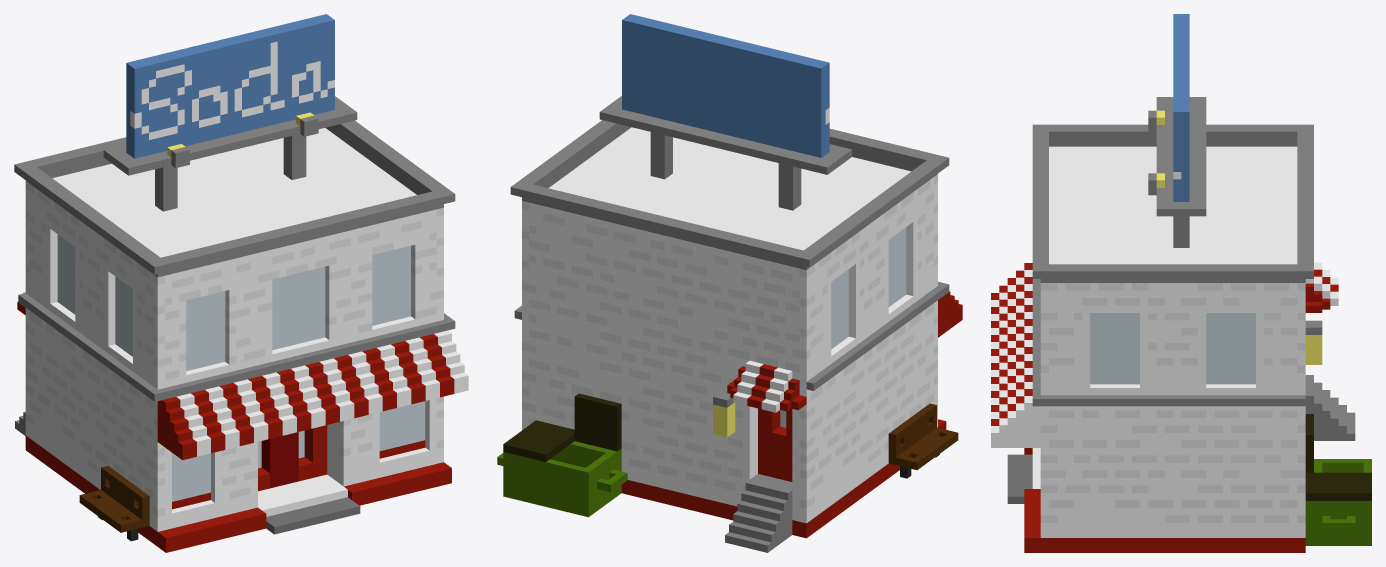
The model's file is soda_fountain.obj.
3 views of the same model, side by side, from view 1: azimuth 30°, elevation 25°; view 2: azimuth 150°, elevation 25°; view 3: azimuth 270°, elevation 25° (orthographic).
Parts seen in each view (by area): view 1: soda_fountain; view 2: soda_fountain; view 3: soda_fountain.
Boxes of the visible parts, x1,y1,x2,y2 form: soda_fountain: (14, 14, 468, 552); soda_fountain: (497, 14, 962, 552); soda_fountain: (991, 14, 1371, 552).
Size of the model in its own units: 45 by 56 by 46.
1 material, 1 textured.
